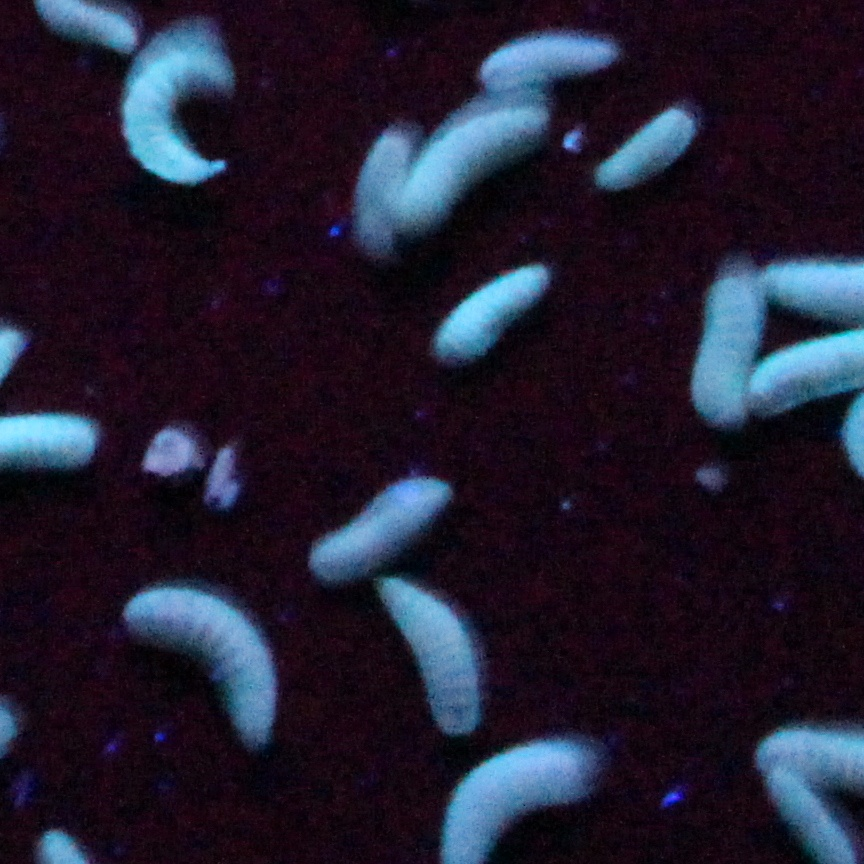larve: (121, 590, 274, 746), (395, 106, 546, 229), (376, 576, 477, 734), (124, 44, 230, 185), (312, 479, 450, 578), (435, 265, 548, 362), (693, 275, 762, 419), (595, 106, 693, 189), (480, 37, 618, 89), (356, 131, 408, 251)
